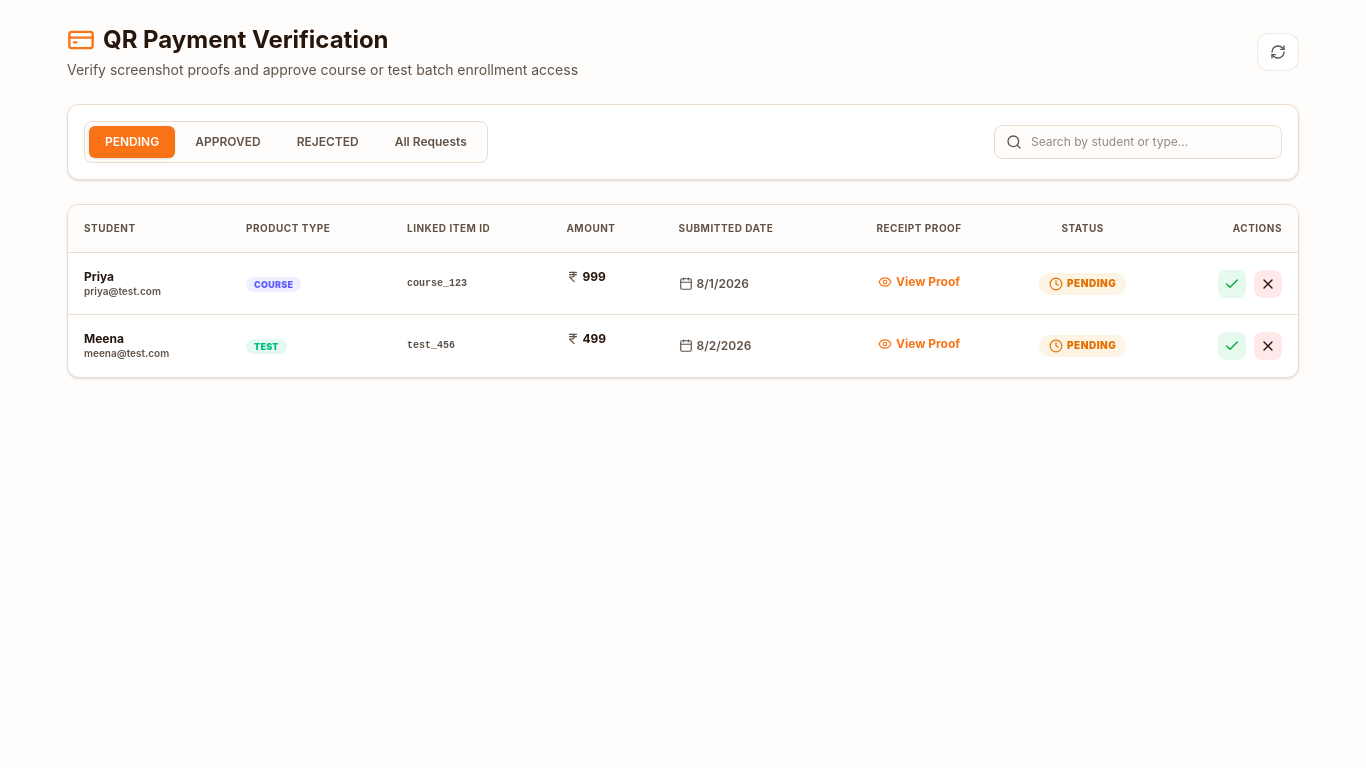
Scenario: PaymentRequestsPage › approves a request with an admin remark
The image size is (1366, 768).
Click the button named "Approve & Enroll" in the row of "priya@test.com" at (1232, 284), box [1218,270,1246,298]
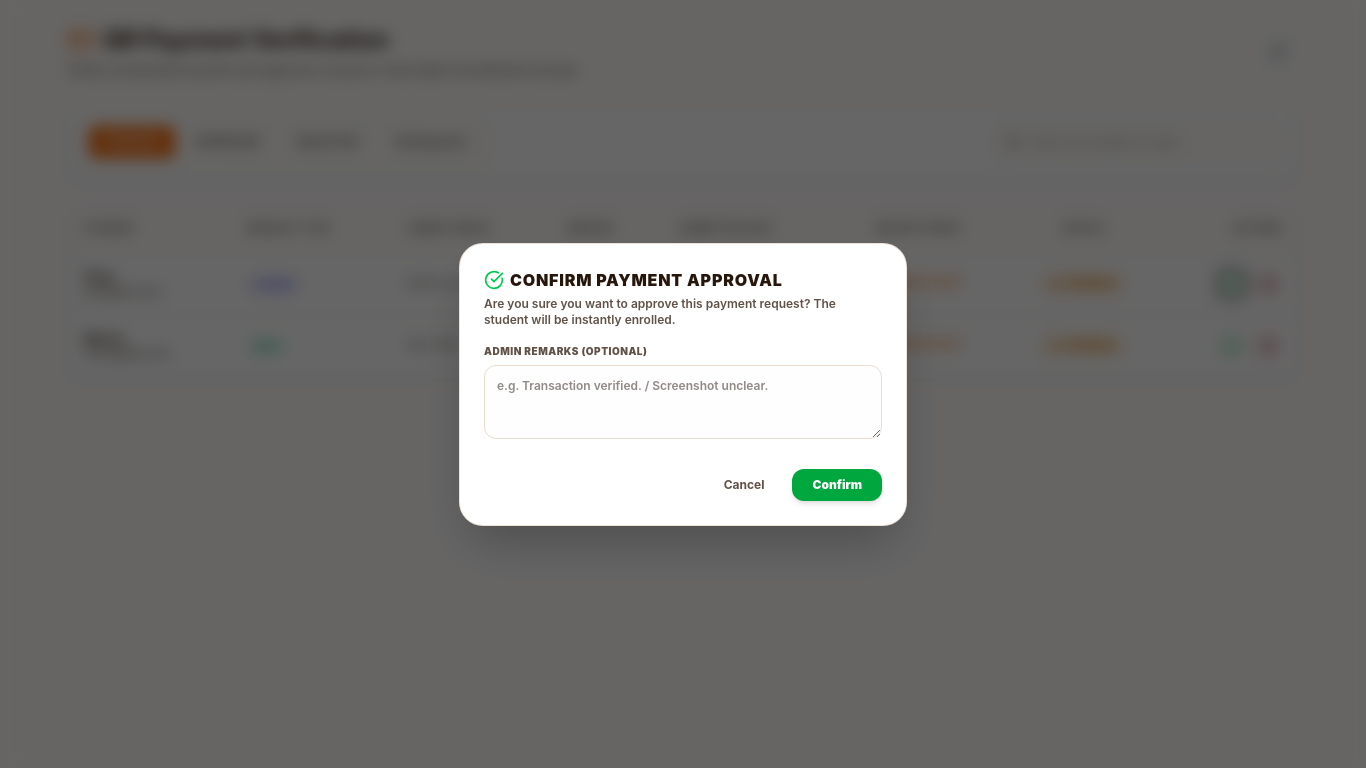
Expected: the heading "Confirm Payment Approval" is shown, [484,270,783,290]
Expected: the text "Are you sure you want to approve this payment request? The student will be instantly enrolled." is shown, [484,296,882,328]
Type "Screenshot verified" into the text box with placeholder "e.g. Transaction verified. / Screenshot unclear." at (683, 402), box [484,364,882,438]
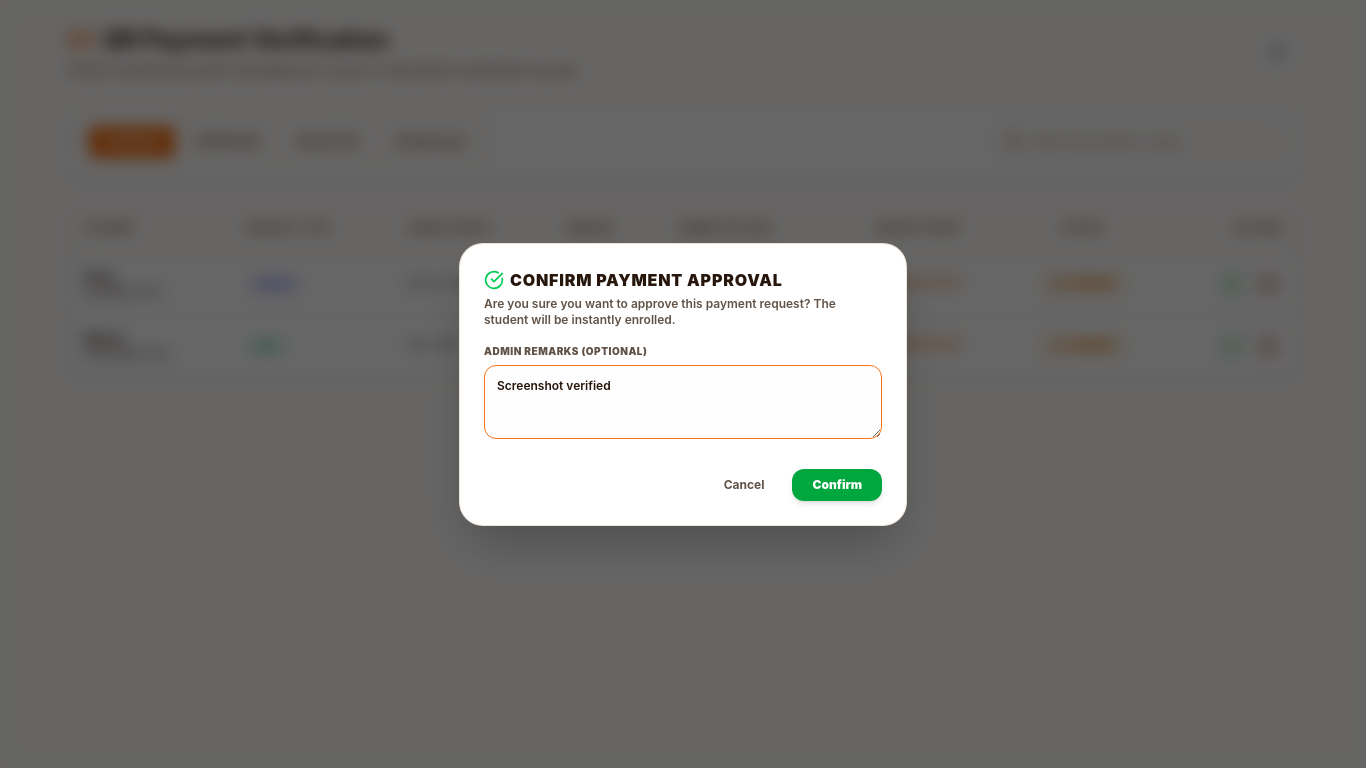
Click the button "Confirm" at (837, 484), box [792,468,882,500]
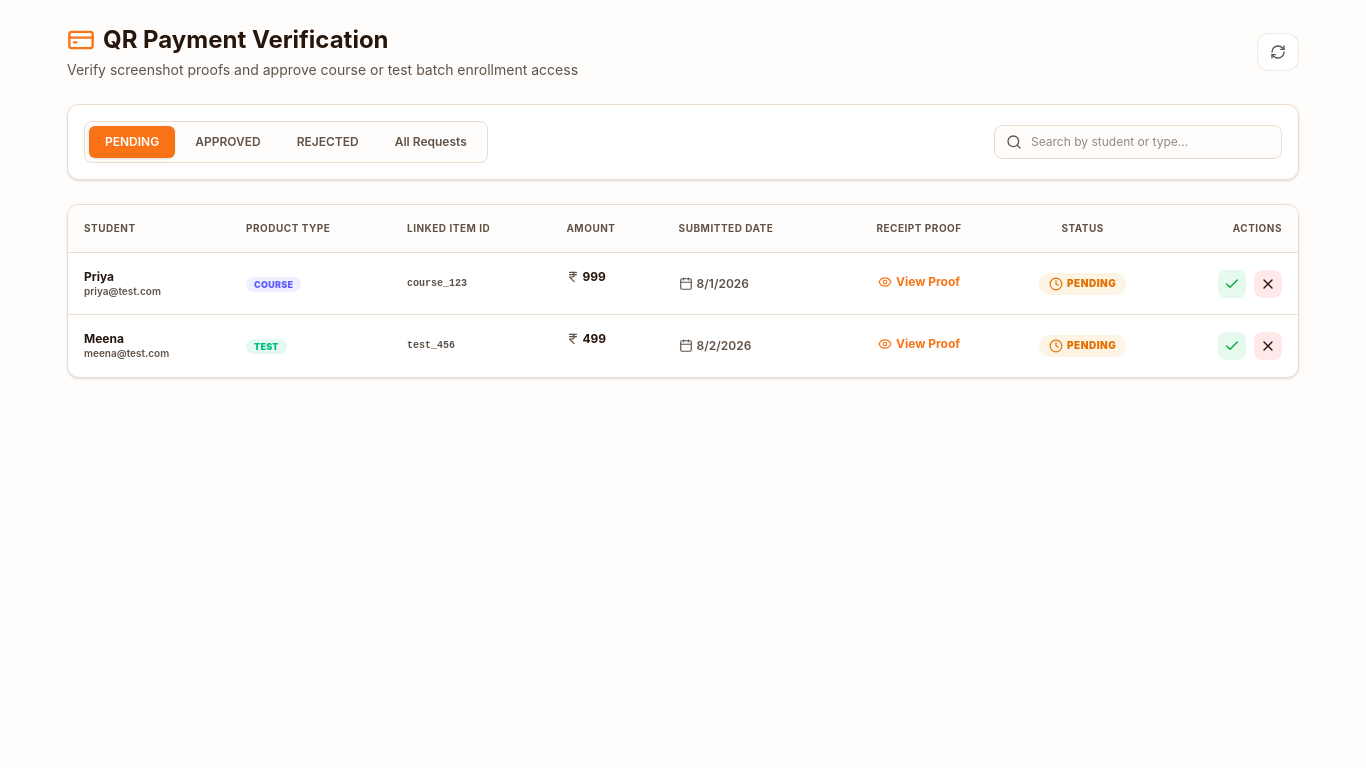
Expected: the heading "Confirm Payment Approval" is gone
